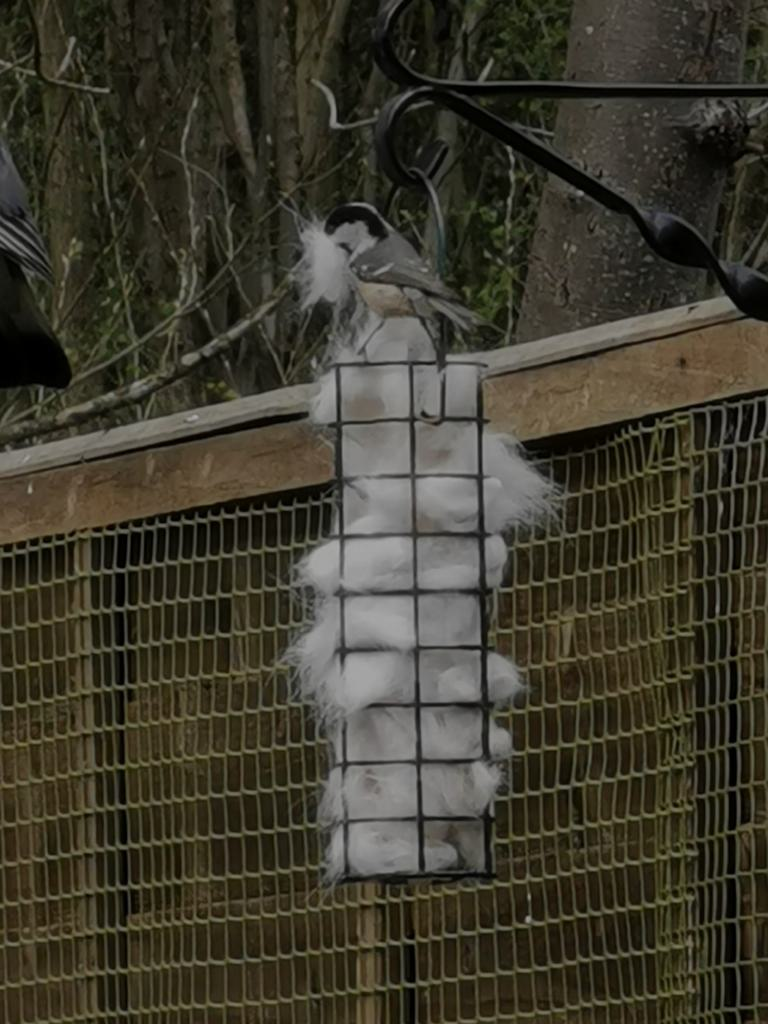PeriparusAter: (322, 205, 485, 362)
